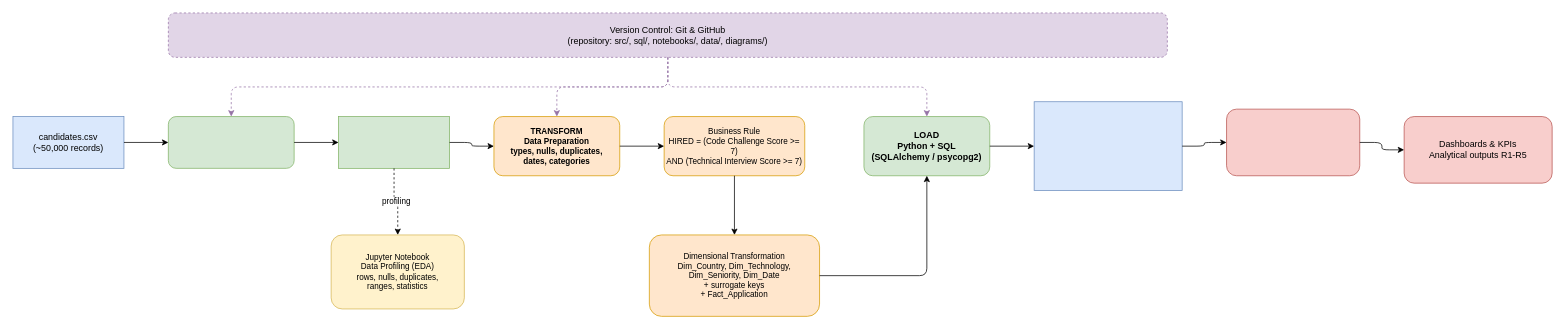
Some shapes in this 1565 by 329 pixel diagram are drawn without their labels. The centre of each missing label's shape, as x and y in pixels:
BI Tool Power BI / Tableau / Looker Studio: point (1293, 142)
DATA WAREHOUSE MySQL / PostgreSQL Star Schema (Dimensions + Fact Table): point (1107, 146)
EXTRACT Python + Pandas Reading and preserving the original file: point (231, 142)
Raw DataFrame (in memory): point (394, 142)
